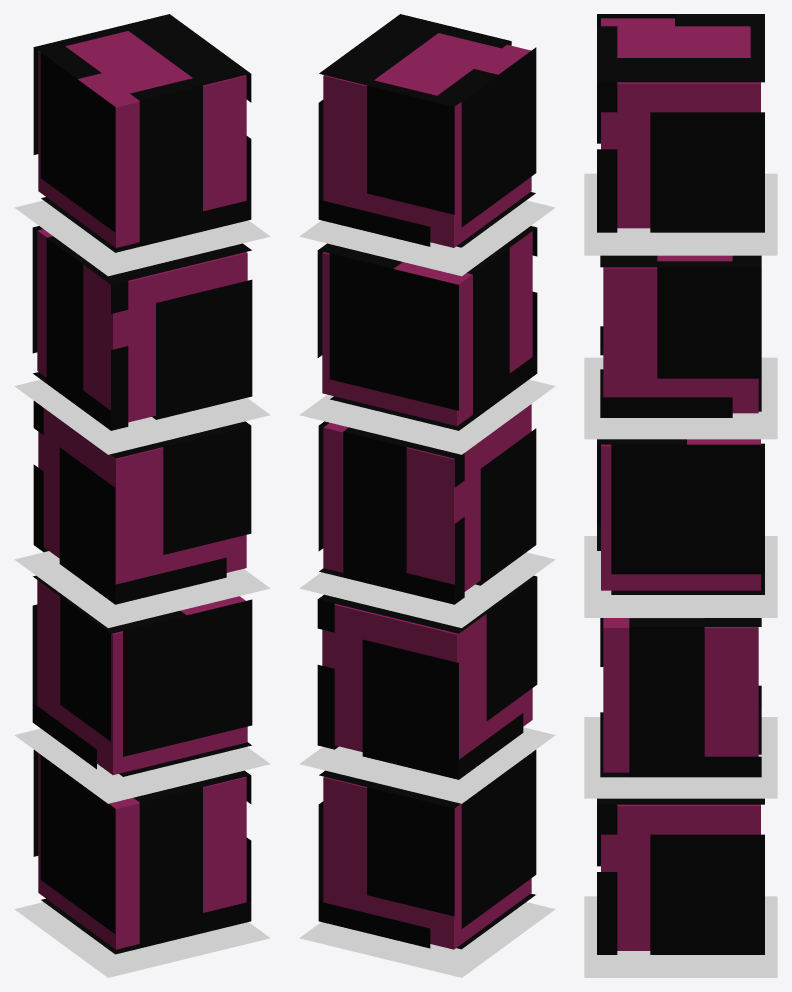
The model's file is fiveBox.fbx.
3 views of the same model, side by side, from view 1: azimuth 30°, elevation 25°; view 2: azimuth 150°, elevation 25°; view 3: azimuth 270°, elevation 25° (orthographic). The views are drawn at different scales.
Visible parts, largest first — view 1: shelf; view 2: shelf; view 3: shelf.
Boxes of the visible parts, x1,y1,x2,y2 form: shelf: [14, 14, 270, 977]; shelf: [299, 14, 555, 977]; shelf: [584, 14, 777, 977].
Size of the model in its own units: 129 by 653 by 129.
